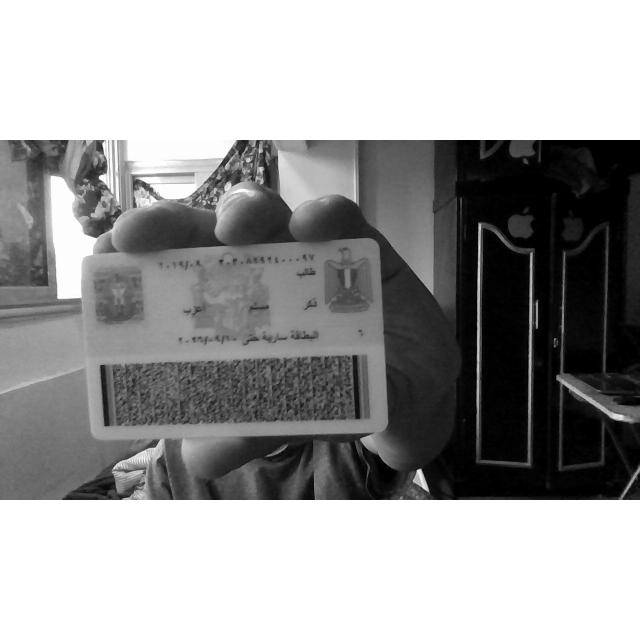id_card: (82, 239, 387, 440)
